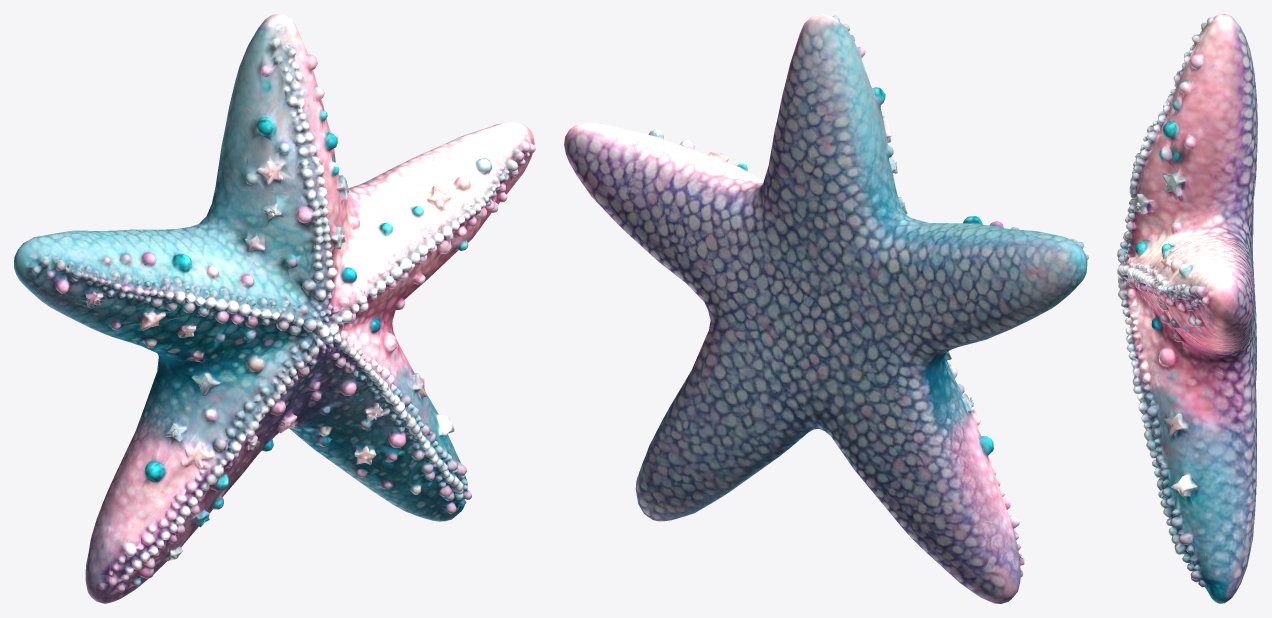
3 renders of one model, left to right at view 1: azimuth 30°, elevation 25°; view 2: azimuth 150°, elevation 25°; view 3: azimuth 270°, elevation 25°, orthographic. The views are drawn at different scales.
Bounding box in the file's own units: 1.89 × 1.9 × 0.4744.
1 material, 1 textured.
